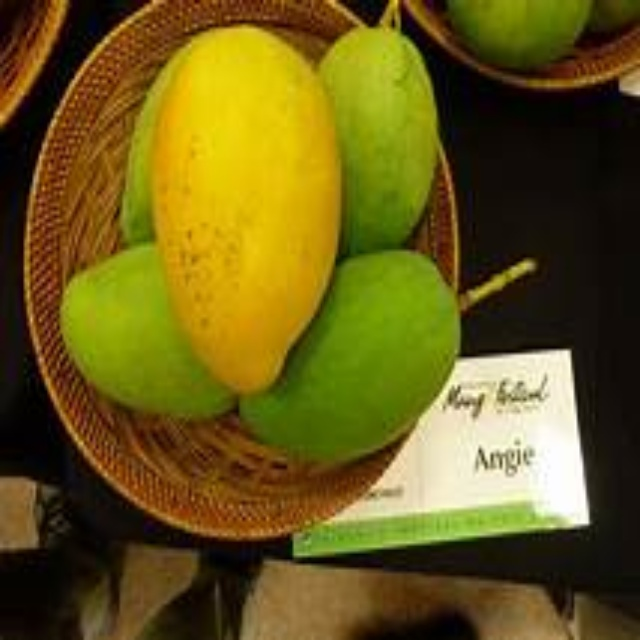mango: (155, 24, 341, 399), (253, 249, 458, 460), (57, 247, 231, 426), (317, 12, 433, 239)
